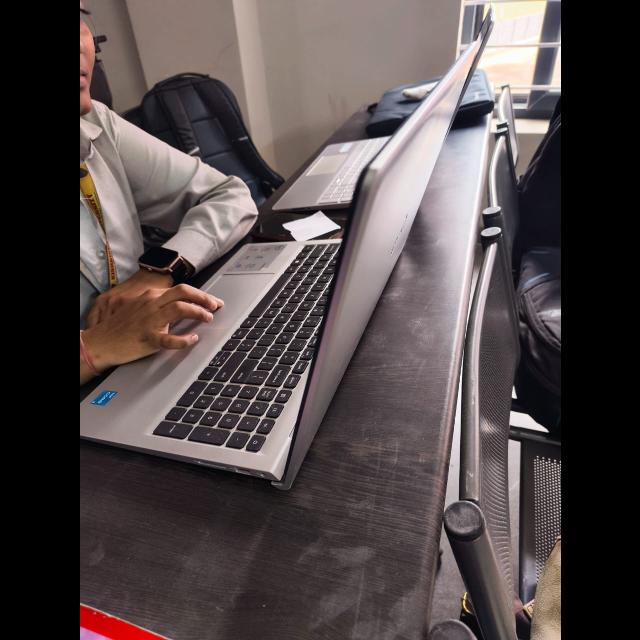laptop: (120, 24, 550, 526)
